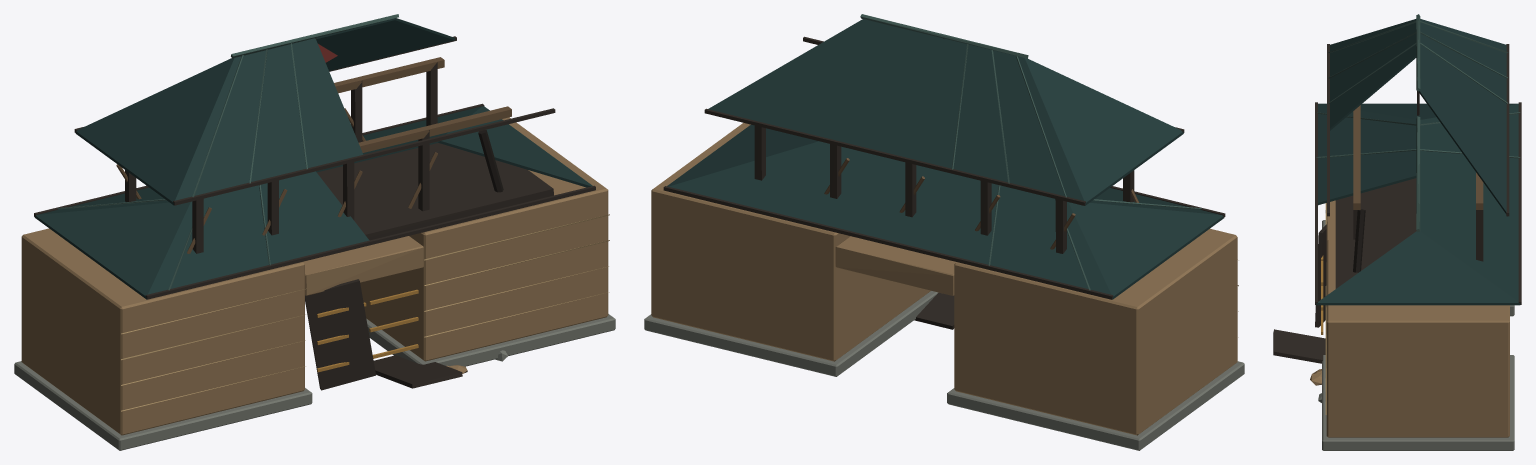
The picture shows the model from 3 angles, left to right: view 1: azimuth 30°, elevation 25°; view 2: azimuth 150°, elevation 25°; view 3: azimuth 270°, elevation 25°; orthographic projection. The views are drawn at different scales.
Visible parts, largest first — view 1: visual_lod; view 2: visual_lod; view 3: visual_lod.
Boxes of the visible parts, bbox=[...] form: visual_lod: bbox=[14, 14, 615, 450]; visual_lod: bbox=[644, 14, 1244, 450]; visual_lod: bbox=[1273, 14, 1521, 450].
Size of the model in its own units: 27.7 by 17.15 by 13.16.
